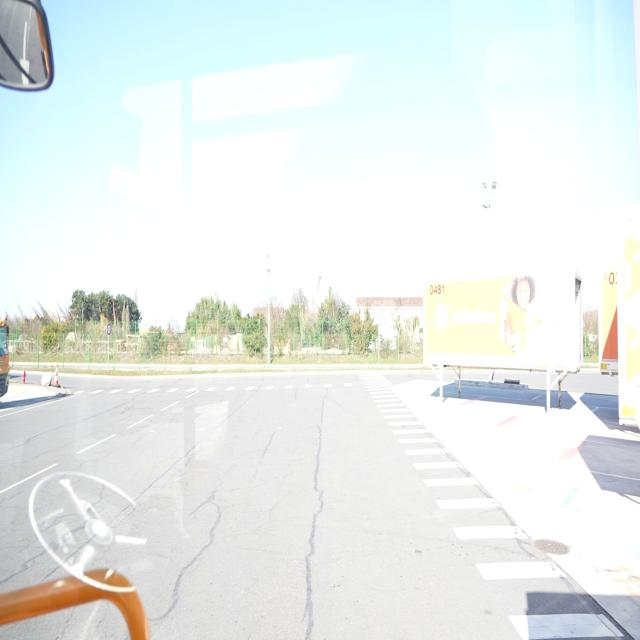Code: (424, 280, 446, 298)
